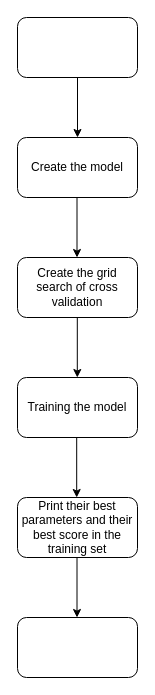
This 155x695 diagram has some shape labels left out. The box of each missing label's shape, as (x1, y1, x2, y2) in pixels:
Calculate their score in the testing set: (16, 616, 138, 678)
Define parameters of the model: (16, 16, 138, 78)
